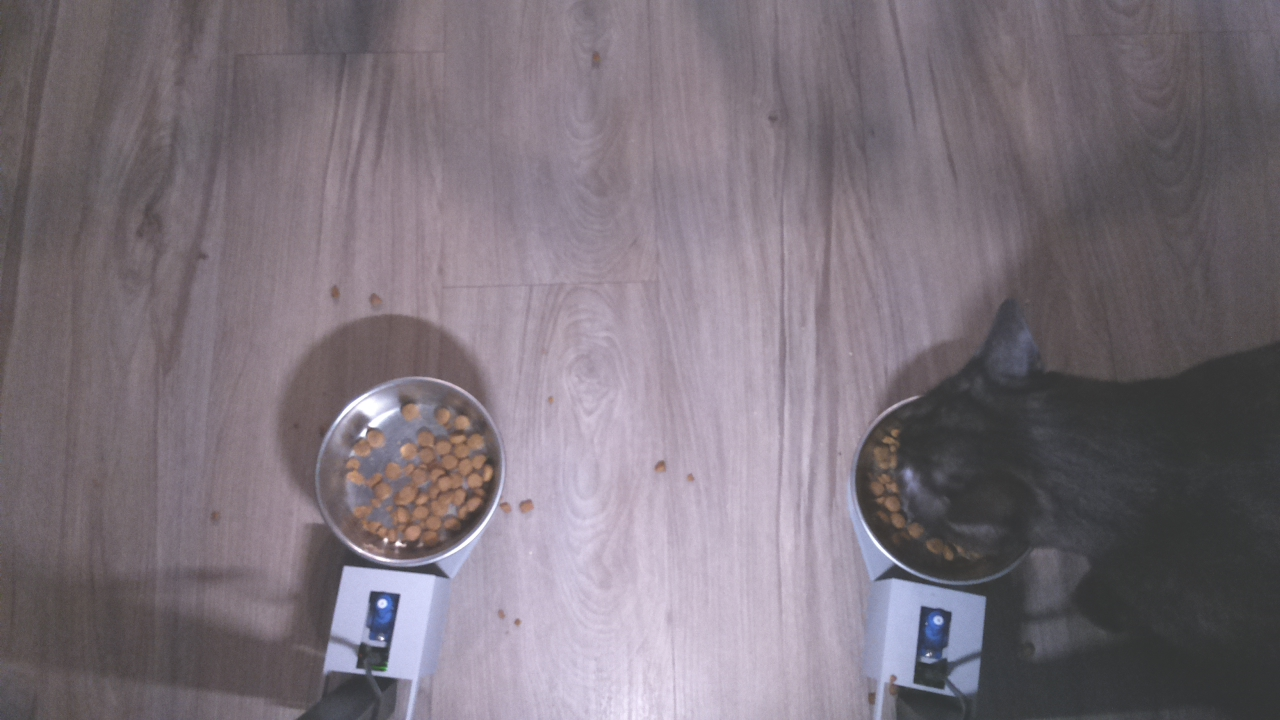open_bowl: (309, 372, 509, 573)
saki_eating: (836, 284, 1111, 601)
